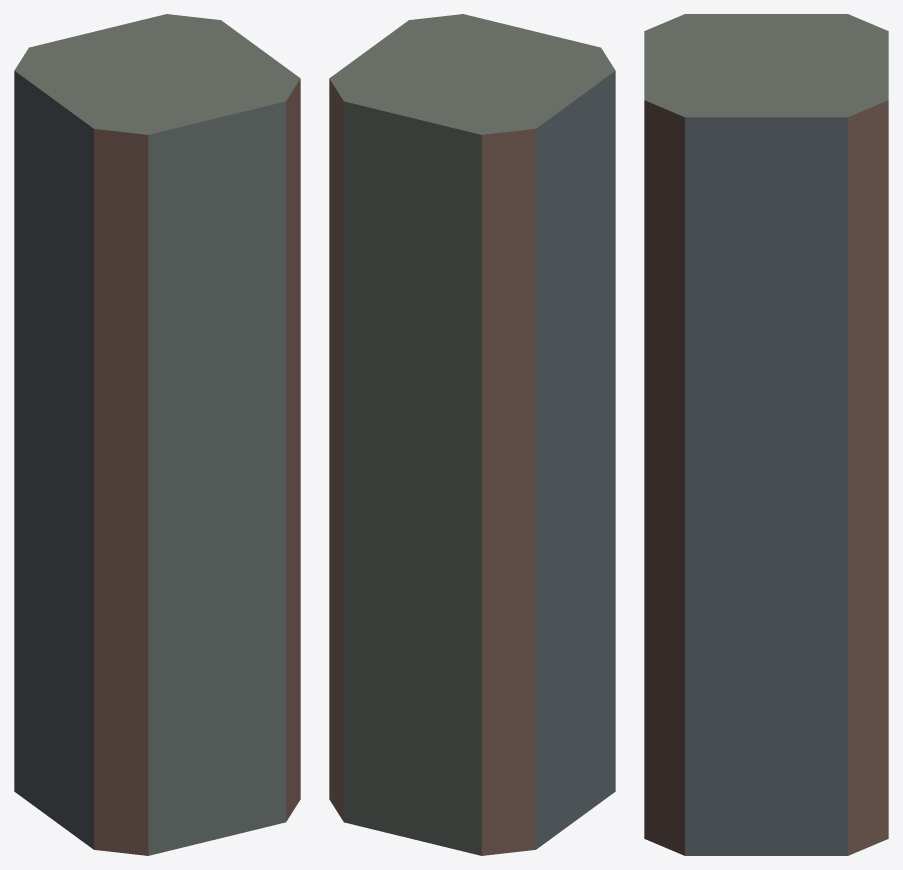
The model's file is pillar_medium_2m.fbx.
3 renders of one model, left to right at view 1: azimuth 30°, elevation 25°; view 2: azimuth 150°, elevation 25°; view 3: azimuth 270°, elevation 25°, orthographic. The views are drawn at different scales.
Parts seen in each view (by area): view 1: Cube; view 2: Cube; view 3: Cube.
Boxes of the visible parts, x1,y1,x2,y2 form: Cube: (14,14,300,855); Cube: (329,14,615,855); Cube: (644,14,888,855).
Bounding box in the file's own units: 60 × 200 × 60.
